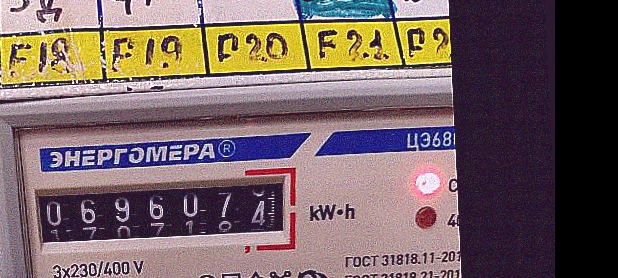0: (44, 197, 64, 227), (179, 189, 200, 217)
4: (248, 198, 267, 227)
6: (146, 191, 166, 220), (78, 196, 97, 224)
7: (214, 188, 235, 219)
9: (112, 195, 131, 224)
screen: (21, 163, 304, 263)
